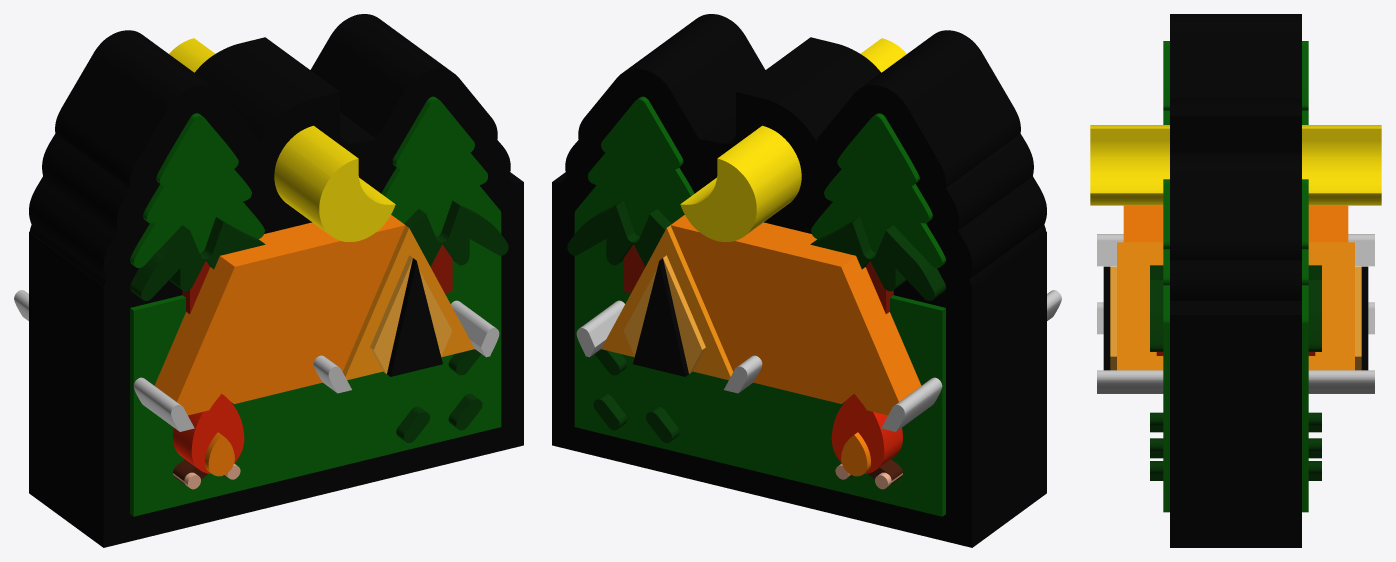
3 renders of one model, left to right at view 1: azimuth 30°, elevation 25°; view 2: azimuth 150°, elevation 25°; view 3: azimuth 270°, elevation 25°, orthographic. The views are drawn at different scales.
Visible parts, largest first — view 1: U+26FA_layer00_obj00, U+26FA_layer01_obj00, U+26FA_layer07_obj00, U+26FA_layer03_obj00, U+26FA_layer12_obj00, U+26FA_layer08_obj00, U+26FA_layer11_obj00, U+26FA_layer10_obj00, U+26FA_layer06_obj00, U+26FA_layer09_obj00, U+26FA_layer02_obj00; view 2: U+26FA_layer00_obj00, U+26FA_layer01_obj00, U+26FA_layer07_obj00, U+26FA_layer03_obj00, U+26FA_layer12_obj00, U+26FA_layer08_obj00, U+26FA_layer11_obj00, U+26FA_layer10_obj00, U+26FA_layer06_obj00, U+26FA_layer09_obj00, U+26FA_layer02_obj00; view 3: U+26FA_layer00_obj00, U+26FA_layer12_obj00, U+26FA_layer08_obj00, U+26FA_layer01_obj00, U+26FA_layer11_obj00, U+26FA_layer03_obj00, U+26FA_layer07_obj00, U+26FA_layer10_obj00, U+26FA_layer09_obj00.
Part boxes in pixels (bbox=[...]): U+26FA_layer00_obj00: bbox=[29, 14, 523, 547]; U+26FA_layer01_obj00: bbox=[130, 96, 501, 516]; U+26FA_layer07_obj00: bbox=[154, 215, 405, 476]; U+26FA_layer03_obj00: bbox=[130, 200, 508, 442]; U+26FA_layer12_obj00: bbox=[169, 38, 395, 241]; U+26FA_layer08_obj00: bbox=[343, 225, 474, 380]; U+26FA_layer11_obj00: bbox=[14, 290, 499, 431]; U+26FA_layer10_obj00: bbox=[387, 258, 442, 376]; U+26FA_layer06_obj00: bbox=[173, 393, 244, 473]; U+26FA_layer09_obj00: bbox=[370, 255, 452, 373]; U+26FA_layer02_obj00: bbox=[182, 244, 452, 313]; U+26FA_layer00_obj00: bbox=[552, 14, 1046, 547]; U+26FA_layer01_obj00: bbox=[574, 96, 945, 516]; U+26FA_layer07_obj00: bbox=[670, 215, 921, 476]; U+26FA_layer03_obj00: bbox=[567, 200, 945, 442]; U+26FA_layer12_obj00: bbox=[680, 38, 906, 241]; U+26FA_layer08_obj00: bbox=[601, 225, 732, 380]; U+26FA_layer11_obj00: bbox=[576, 290, 1061, 431]; U+26FA_layer10_obj00: bbox=[633, 258, 688, 376]; U+26FA_layer06_obj00: bbox=[831, 393, 902, 473]; U+26FA_layer09_obj00: bbox=[623, 255, 705, 373]; U+26FA_layer02_obj00: bbox=[623, 244, 893, 313]; U+26FA_layer00_obj00: bbox=[1170, 14, 1301, 547]; U+26FA_layer12_obj00: bbox=[1090, 125, 1381, 205]; U+26FA_layer08_obj00: bbox=[1117, 242, 1354, 370]; U+26FA_layer01_obj00: bbox=[1163, 41, 1308, 512]; U+26FA_layer11_obj00: bbox=[1097, 234, 1374, 393]; U+26FA_layer03_obj00: bbox=[1150, 265, 1321, 480]; U+26FA_layer07_obj00: bbox=[1123, 205, 1348, 242]; U+26FA_layer10_obj00: bbox=[1103, 266, 1368, 370]; U+26FA_layer09_obj00: bbox=[1110, 266, 1361, 370].
Size of the model in its own units: 0.6491 by 0.649 by 0.44.
